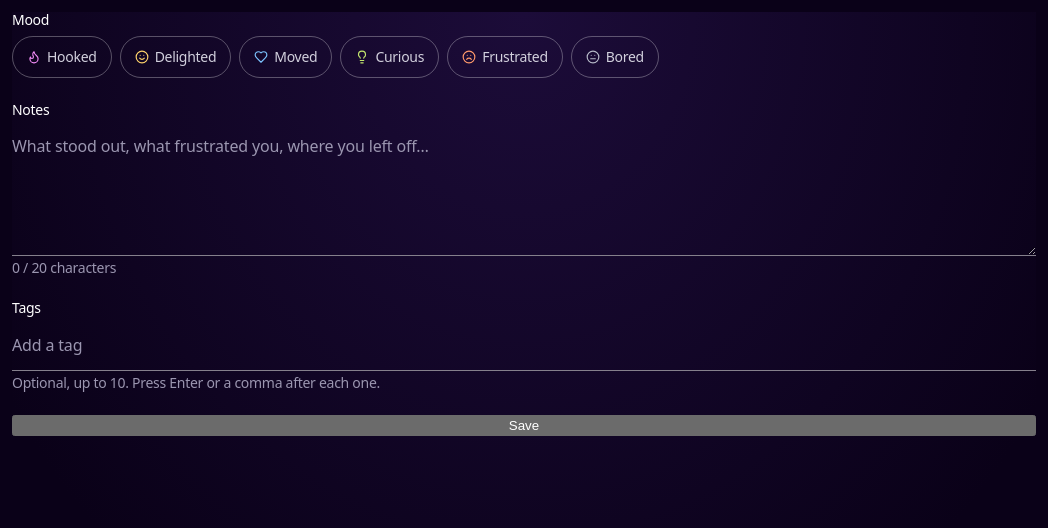
it: ReflectionForm › counts toward the minimum as you type
The image size is (1048, 528).
Expected: the text "0 / 20 characters" is shown, [12, 260, 116, 276]
Type "  Twelve chars  " into the text box labelled "Notes" at (524, 189), box [12, 122, 1036, 256]
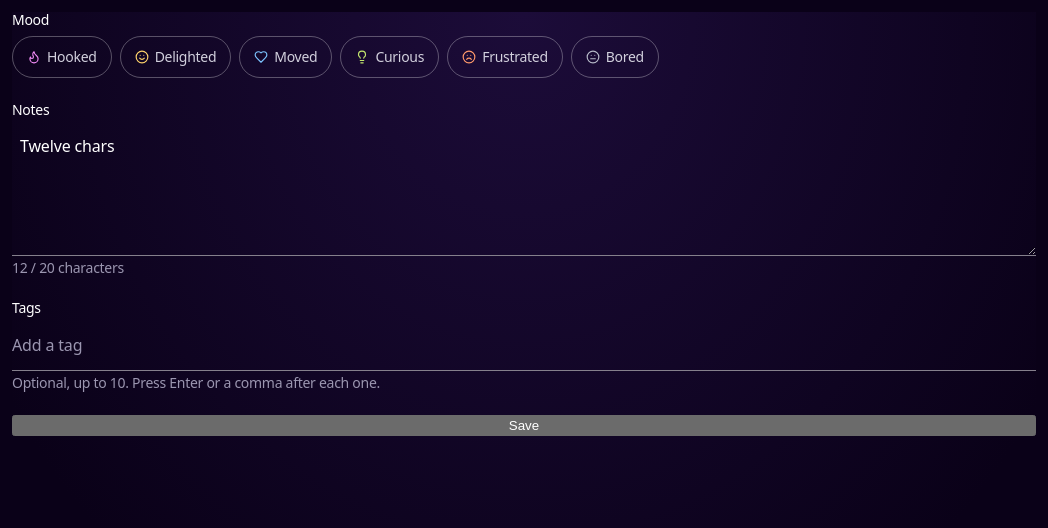
Now the text "12 / 20 characters" is shown, box [12, 260, 124, 276]
